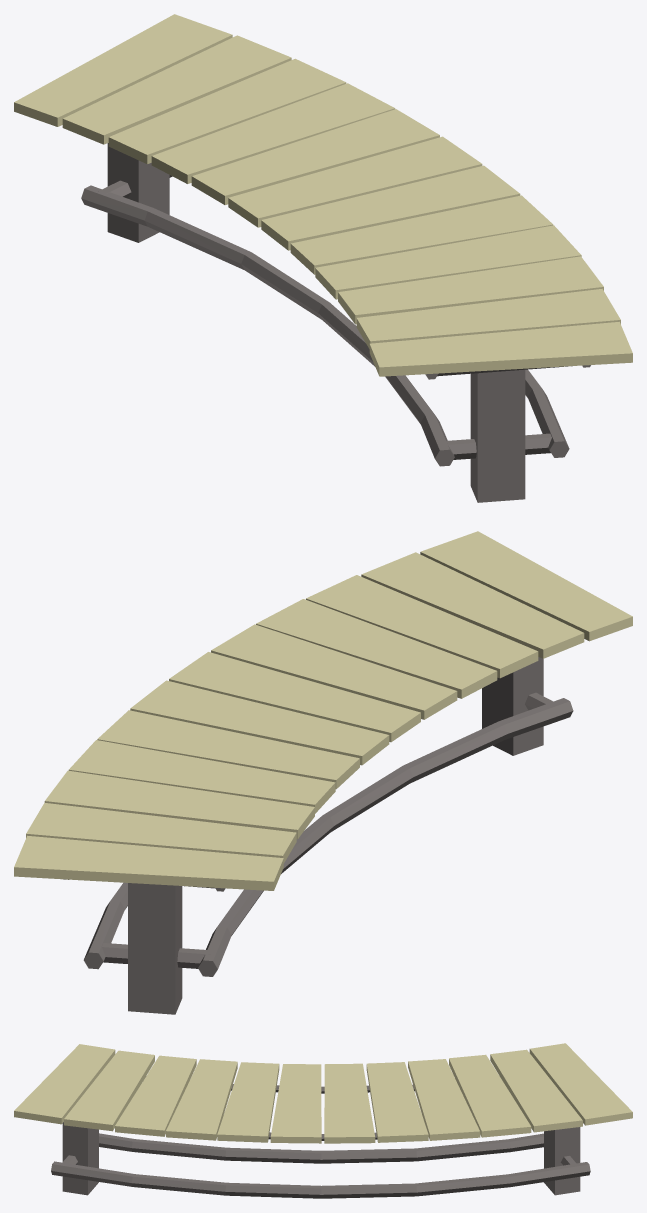
The model's file is SM_Bench_03.fbx.
The picture shows the model from 3 angles, top to bottom: view 1: azimuth 30°, elevation 25°; view 2: azimuth 150°, elevation 25°; view 3: azimuth 270°, elevation 25°; orthographic projection. The views are drawn at different scales.
Visible parts, largest first — view 1: SM_Bench_03; view 2: SM_Bench_03; view 3: SM_Bench_03.
Part boxes in pixels (left/top/right/bottom): SM_Bench_03: left=14, top=14, right=632, bottom=502; SM_Bench_03: left=14, top=531, right=632, bottom=1014; SM_Bench_03: left=14, top=1043, right=632, bottom=1198.
Bounding box in the file's own units: 91.2 × 46.93 × 253.
